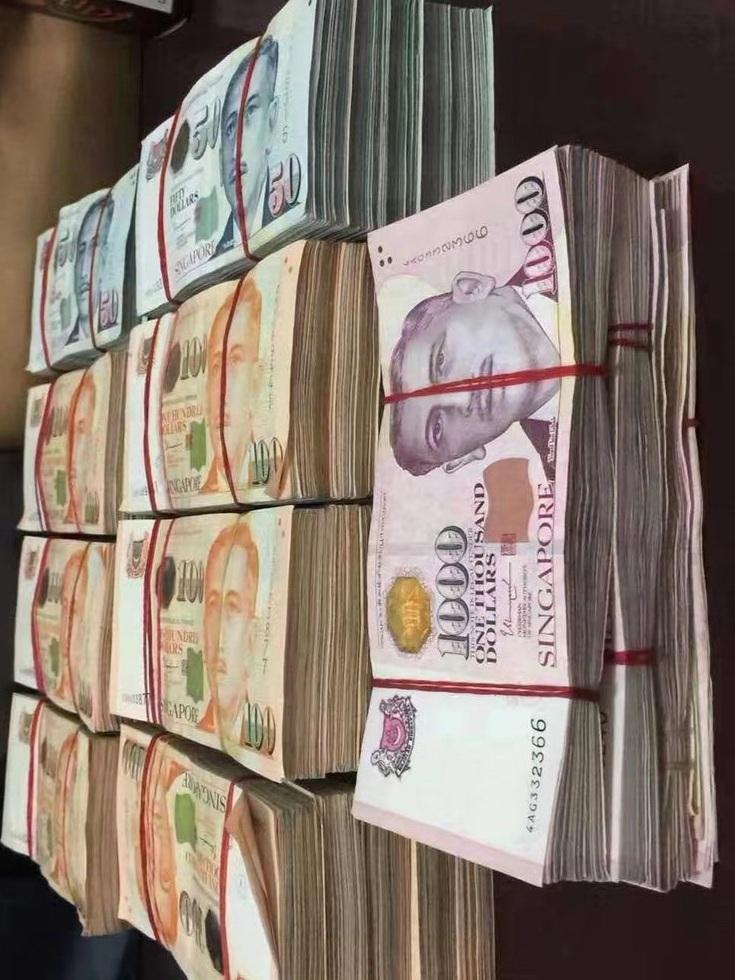1000SingaporeDollar: (375, 179, 566, 874)
